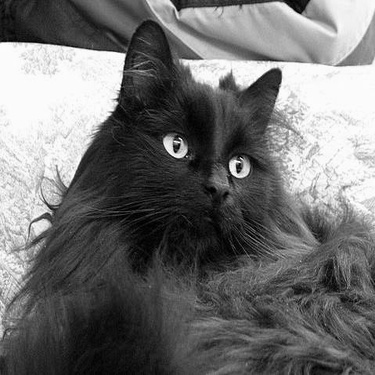cat: (9, 13, 363, 368)
